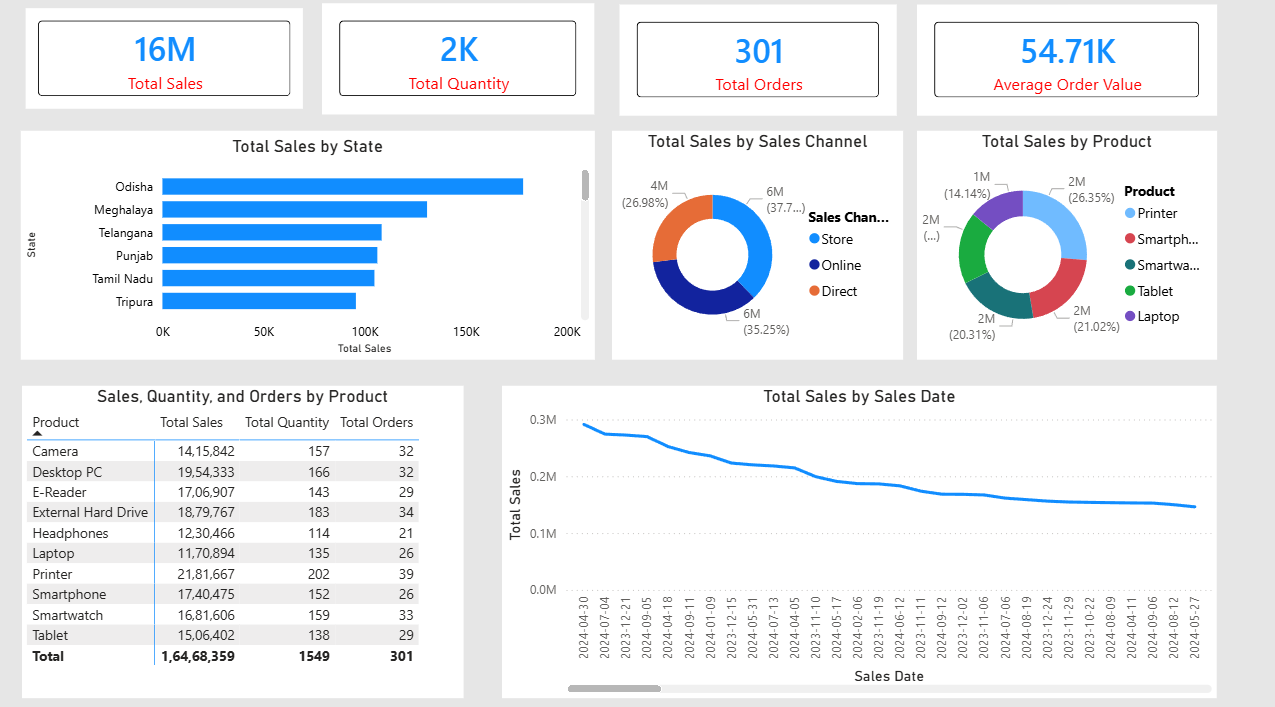

The dashboard page shown, as its layout file describes it:
{"tool":"powerbi","page":{"name":"Page 1","canvas":[1280,720],"ordinal":0},"visuals":[{"type":"lineChart","fields":{"Y":["Measures..Total Sales"],"Category":["DimDate.Sales Date"]},"box":[503.8,385.2,699.5,305.7],"z":0},{"type":"clusteredBarChart","fields":{"Category":["DimGeography.State"],"Y":["Measures..Total Sales"]},"box":[33,135.7,561.3,223.8],"z":1000},{"type":"pivotTable","title":"Sales, Quantity, and Orders by Product","fields":{"Rows":["DimProduct.Product"],"Values":["Measures..Total Sales","Measures..Total Quantity","Measures..Total Orders"]},"box":[34.2,385.2,431.7,305.7],"z":2000},{"type":"donutChart","fields":{"Y":["Measures..Total Sales"],"Category":["DimChannel.Sales Channel"]},"box":[611.4,135.7,284.9,223.8],"z":3000},{"type":"cardVisual","fields":{"Data":["Measures..Total Sales"]},"box":[33,11,281.3,108.8],"z":4000},{"type":"cardVisual","fields":{"Data":["Measures..Total Quantity"]},"box":[327.7,11,266.6,108.8],"z":5000},{"type":"cardVisual","fields":{"Data":["Measures..Total Orders"]},"box":[618.8,12.2,271.5,108.8],"z":6000},{"type":"cardVisual","fields":{"Data":["Measures..Average Order Value"]},"box":[909.8,12.2,293.5,108.8],"z":7000},{"type":"donutChart","fields":{"Y":["Measures..Total Sales"],"Category":["DimProduct.Product"]},"box":[909.8,135.7,293.5,223.8],"z":8000}]}

Visuals, with their boxes in screenshot pixels (x1, y1, x2, y2), scaled from the page's 1280x720 canvas onto the 1275x707 screenshot:
lineChart - Measures..Total Sales x DimDate.Sales Date: l=502, t=378, r=1199, b=678
clusteredBarChart - DimGeography.State x Measures..Total Sales: l=33, t=133, r=592, b=353
"Sales, Quantity, and Orders by Product" pivotTable: l=34, t=378, r=464, b=678
donutChart - Measures..Total Sales x DimChannel.Sales Channel: l=609, t=133, r=893, b=353
cardVisual - Measures..Total Sales: l=33, t=11, r=313, b=118
cardVisual - Measures..Total Quantity: l=326, t=11, r=592, b=118
cardVisual - Measures..Total Orders: l=616, t=12, r=887, b=119
cardVisual - Measures..Average Order Value: l=906, t=12, r=1199, b=119
donutChart - Measures..Total Sales x DimProduct.Product: l=906, t=133, r=1199, b=353
